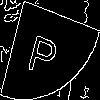P: (25, 24, 62, 78)
